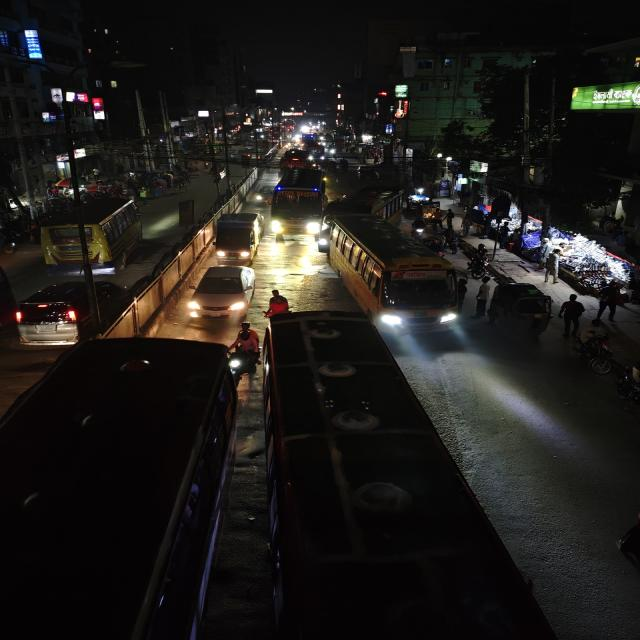bus: (259, 303, 489, 640), (0, 335, 237, 640), (327, 213, 467, 335), (38, 195, 147, 275), (267, 166, 331, 240)
car: (12, 277, 128, 347), (185, 262, 258, 321)
cng: (491, 281, 555, 341)
motorcycle: (226, 321, 262, 383), (574, 331, 616, 375), (612, 359, 640, 409)
pedestrian: (558, 293, 587, 336), (598, 280, 626, 320), (472, 273, 497, 317), (542, 250, 562, 284)
truck: (210, 210, 264, 264)
